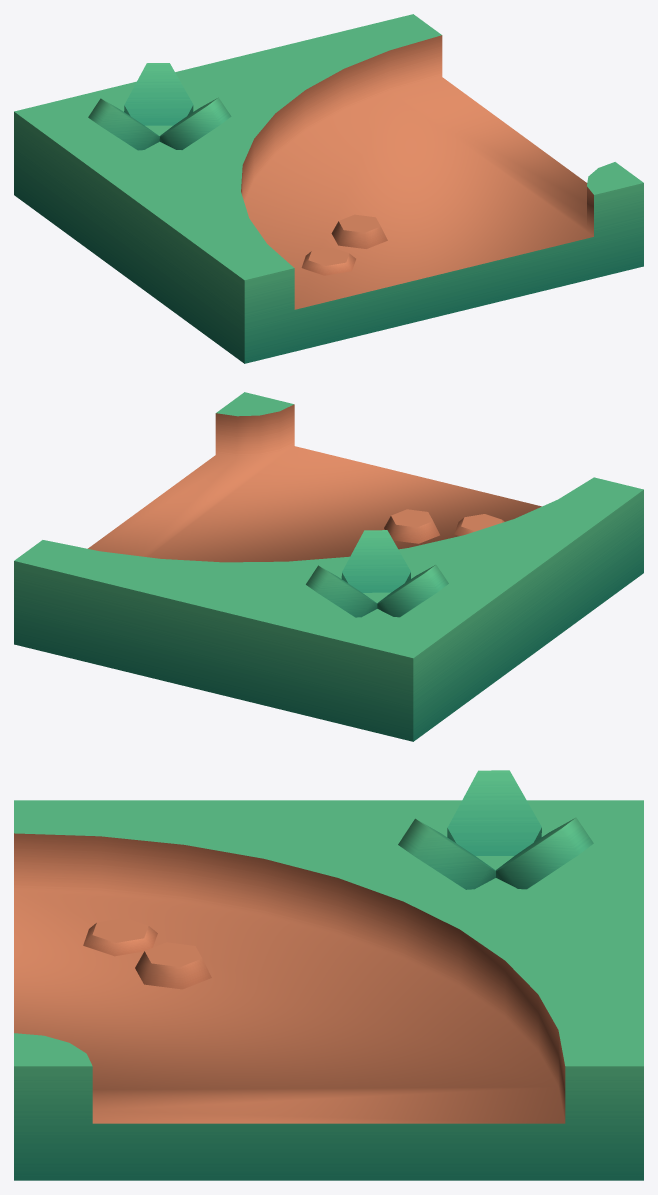
Rendered from tile-corner-round.gltf.
The picture shows the model from 3 angles, top to bottom: view 1: azimuth 30°, elevation 25°; view 2: azimuth 150°, elevation 25°; view 3: azimuth 270°, elevation 25°; orthographic projection. The views are drawn at different scales.
Visible parts, largest first — view 1: tile-corner-round; view 2: tile-corner-round; view 3: tile-corner-round.
Boxes of the visible parts, <box> form: tile-corner-round: <box>14,14,643,363</box>; tile-corner-round: <box>14,392,643,741</box>; tile-corner-round: <box>14,770,643,1180</box>.
Bounding box in the file's own units: 1 × 0.296 × 1.
1 material, 1 textured.
